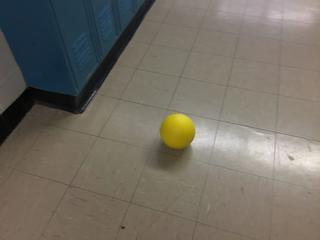power_cell: (161, 110, 196, 153)
